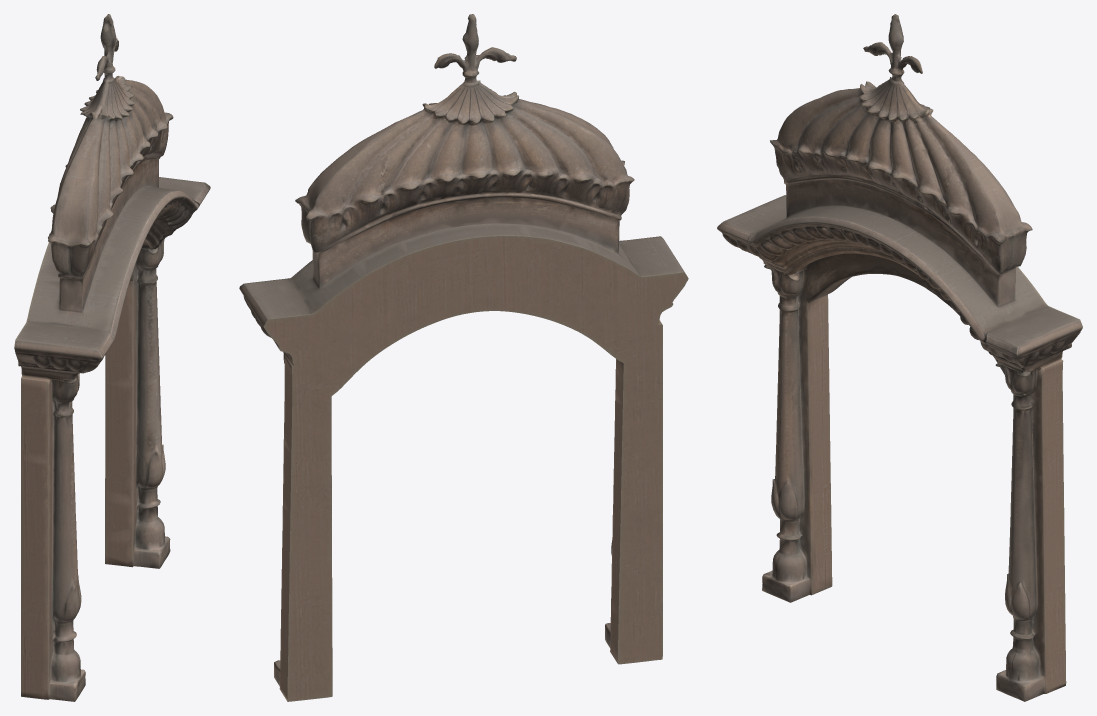
Rendered from decorative_window.glb.
3 views of the same model, side by side, from view 1: azimuth 30°, elevation 25°; view 2: azimuth 150°, elevation 25°; view 3: azimuth 270°, elevation 25° (orthographic). The views are drawn at different scales.
Visible parts, largest first — view 1: Aset_building_relief_M_xdphcb1dw_00_LOD0_2; view 2: Aset_building_relief_M_xdphcb1dw_00_LOD0_2; view 3: Aset_building_relief_M_xdphcb1dw_00_LOD0_2.
Part boxes in pixels (x1,y1,x2,y2): Aset_building_relief_M_xdphcb1dw_00_LOD0_2: [14, 14, 210, 701]; Aset_building_relief_M_xdphcb1dw_00_LOD0_2: [239, 14, 688, 701]; Aset_building_relief_M_xdphcb1dw_00_LOD0_2: [717, 14, 1082, 701].
Bounding box in the file's own units: 1.24 × 2.34 × 1.24.
Materials: 1 (1 with a texture image).
